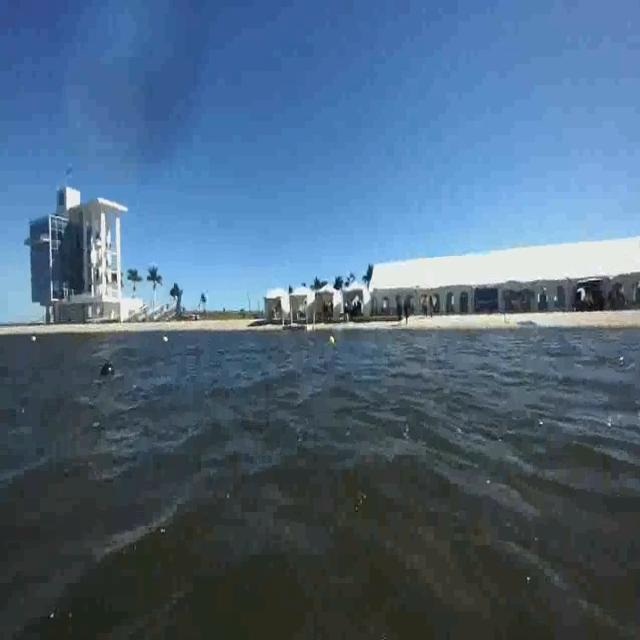black-buoy: (100, 359, 116, 379)
yellow-buoy: (328, 335, 337, 349)
